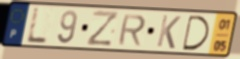9: (56, 9, 79, 46)
D: (181, 14, 212, 52)
K: (155, 14, 183, 51)
L: (25, 7, 49, 45)
R: (116, 14, 147, 47)
Z: (85, 9, 121, 47)
